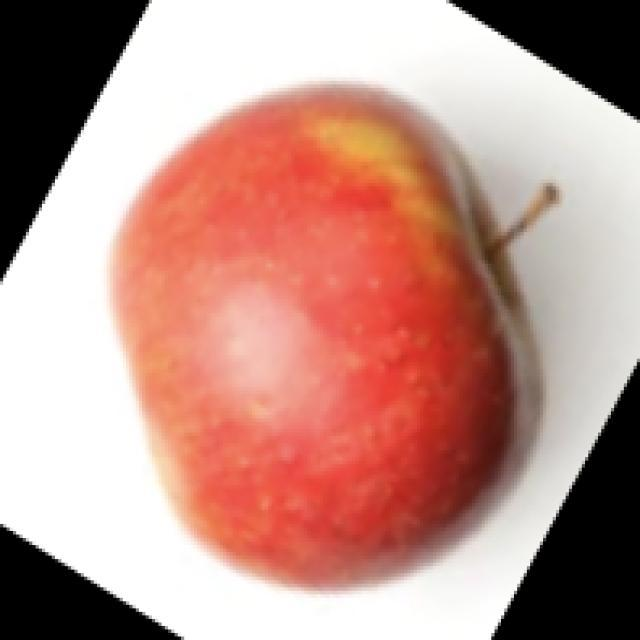Apple: (108, 82, 528, 589)
